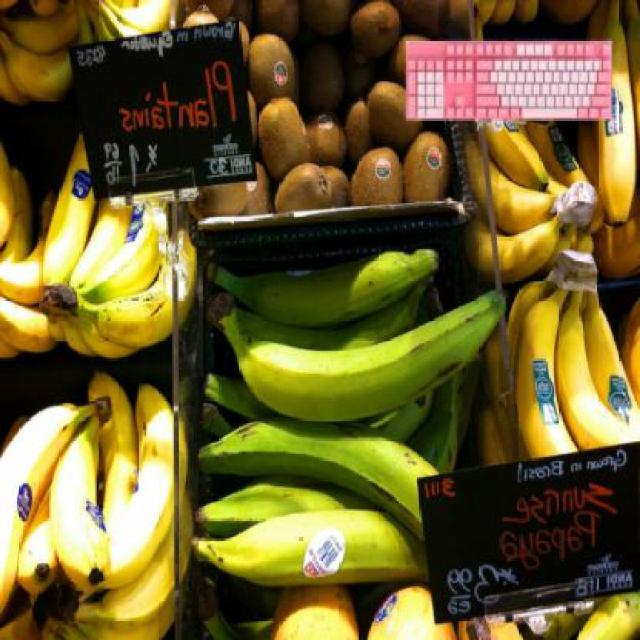keyboard: (402, 39, 610, 123)
